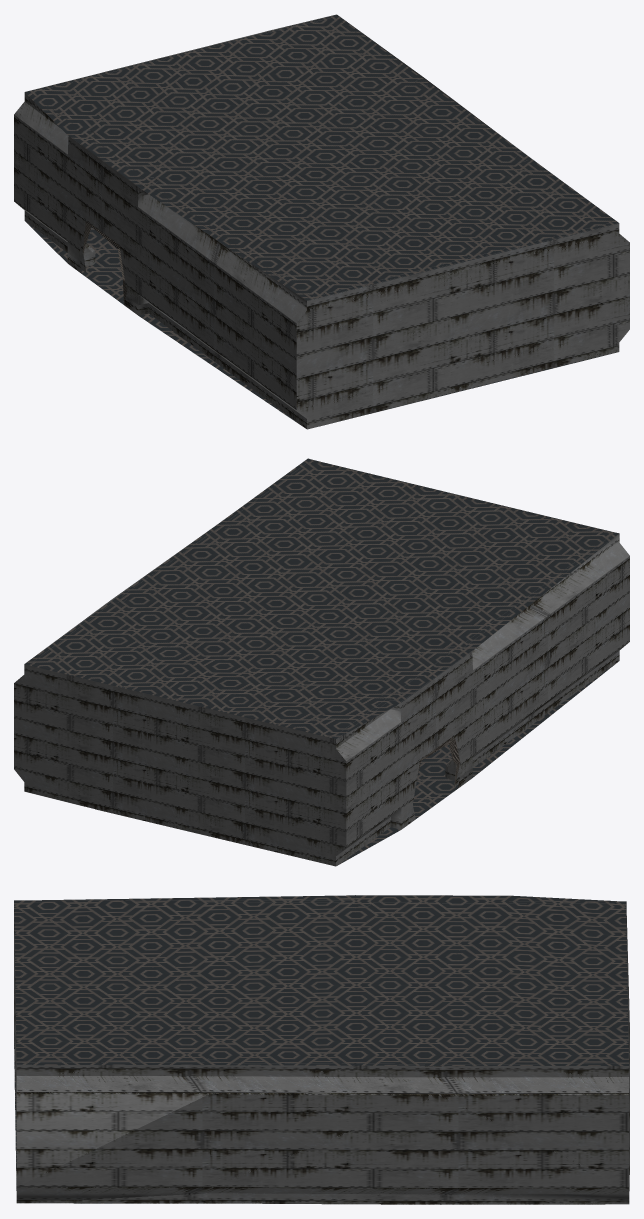
File: almacen_3.obj
3 renders of one model, top to bottom at view 1: azimuth 30°, elevation 25°; view 2: azimuth 150°, elevation 25°; view 3: azimuth 270°, elevation 25°, orthographic. The views are drawn at different scales.
Visible parts, largest first — view 1: almacen_3:group3, almacen_3:polySurface1152, almacen_3:polySurface839, almacen_3:pPlane1, almacen_3:polySurface1156, almacen_3:polySurface1160; view 2: almacen_3:group3, almacen_3:polySurface1156, almacen_3:polySurface839, almacen_3:pPlane1, almacen_3:polySurface1160; view 3: almacen_3:group3, almacen_3:polySurface1160, almacen_3:polySurface839.
Boxes of the visible parts, x1,y1,x2,y2 form: almacen_3:group3: (25, 15, 618, 300); almacen_3:polySurface1152: (296, 222, 629, 429); almacen_3:polySurface839: (14, 92, 308, 428); almacen_3:pPlane1: (25, 221, 615, 428); almacen_3:polySurface1156: (25, 14, 336, 92); almacen_3:polySurface1160: (335, 15, 618, 222); almacen_3:group3: (25, 459, 618, 738); almacen_3:polySurface1156: (14, 663, 346, 866); almacen_3:polySurface839: (334, 533, 629, 866); almacen_3:pPlane1: (337, 662, 617, 865); almacen_3:polySurface1160: (25, 458, 308, 663); almacen_3:group3: (14, 895, 628, 1065); almacen_3:polySurface1160: (16, 1058, 629, 1204); almacen_3:polySurface839: (14, 895, 626, 916).
Size of the model in its own units: 73.28 by 26.7 by 107.
